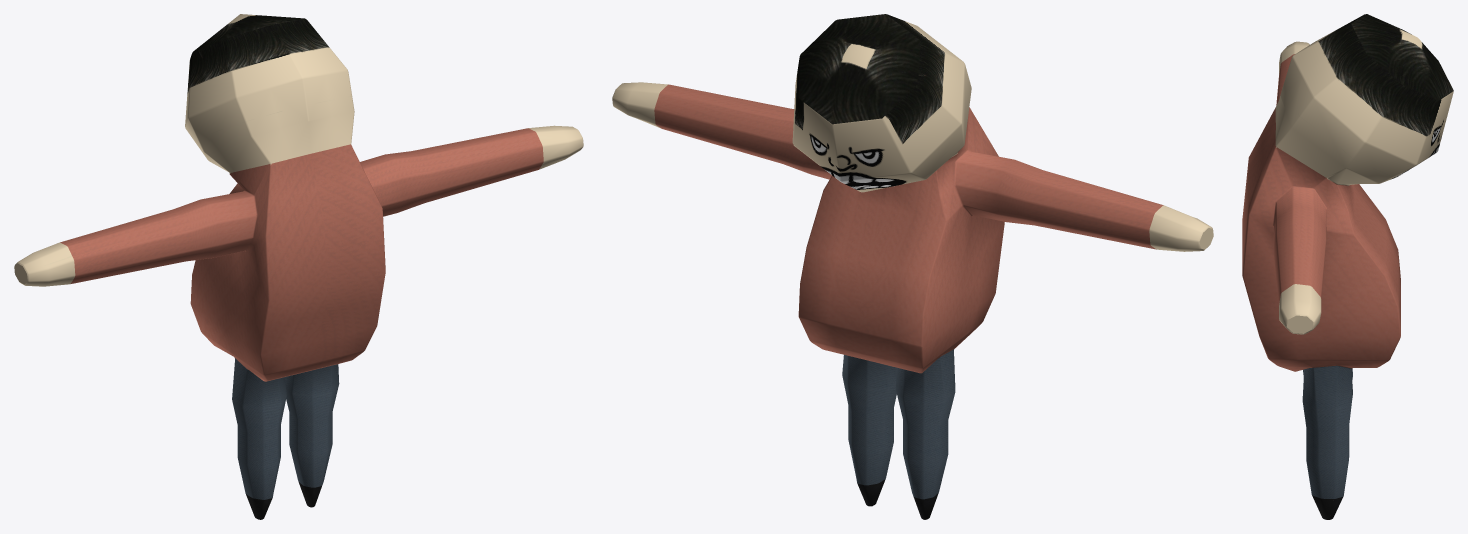
Rendered from Enemy.fbx.
The picture shows the model from 3 angles, left to right: view 1: azimuth 30°, elevation 25°; view 2: azimuth 150°, elevation 25°; view 3: azimuth 270°, elevation 25°; orthographic projection. The views are drawn at different scales.
Visible parts, largest first — view 1: Sphere002; view 2: Sphere002; view 3: Sphere002.
Part boxes in pixels (box(x1,y1,x2,y2)): Sphere002: box(14, 14, 583, 519); Sphere002: box(612, 14, 1213, 519); Sphere002: box(1242, 14, 1453, 519).
Bounding box in the file's own units: 79.24 × 65.3 × 25.89.
1 material, 1 textured.
